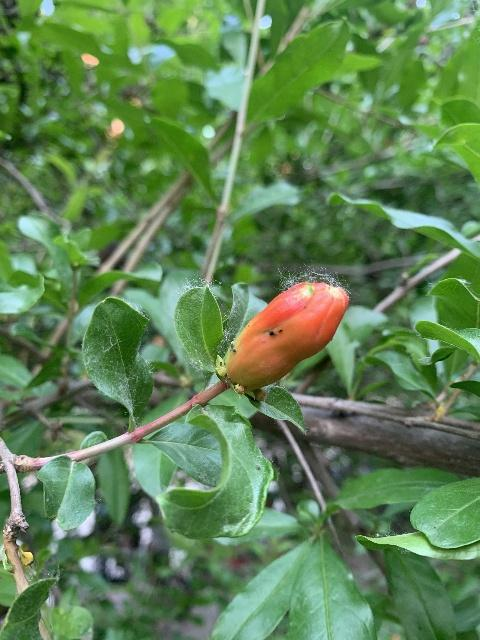bud: (226, 281, 349, 391)
